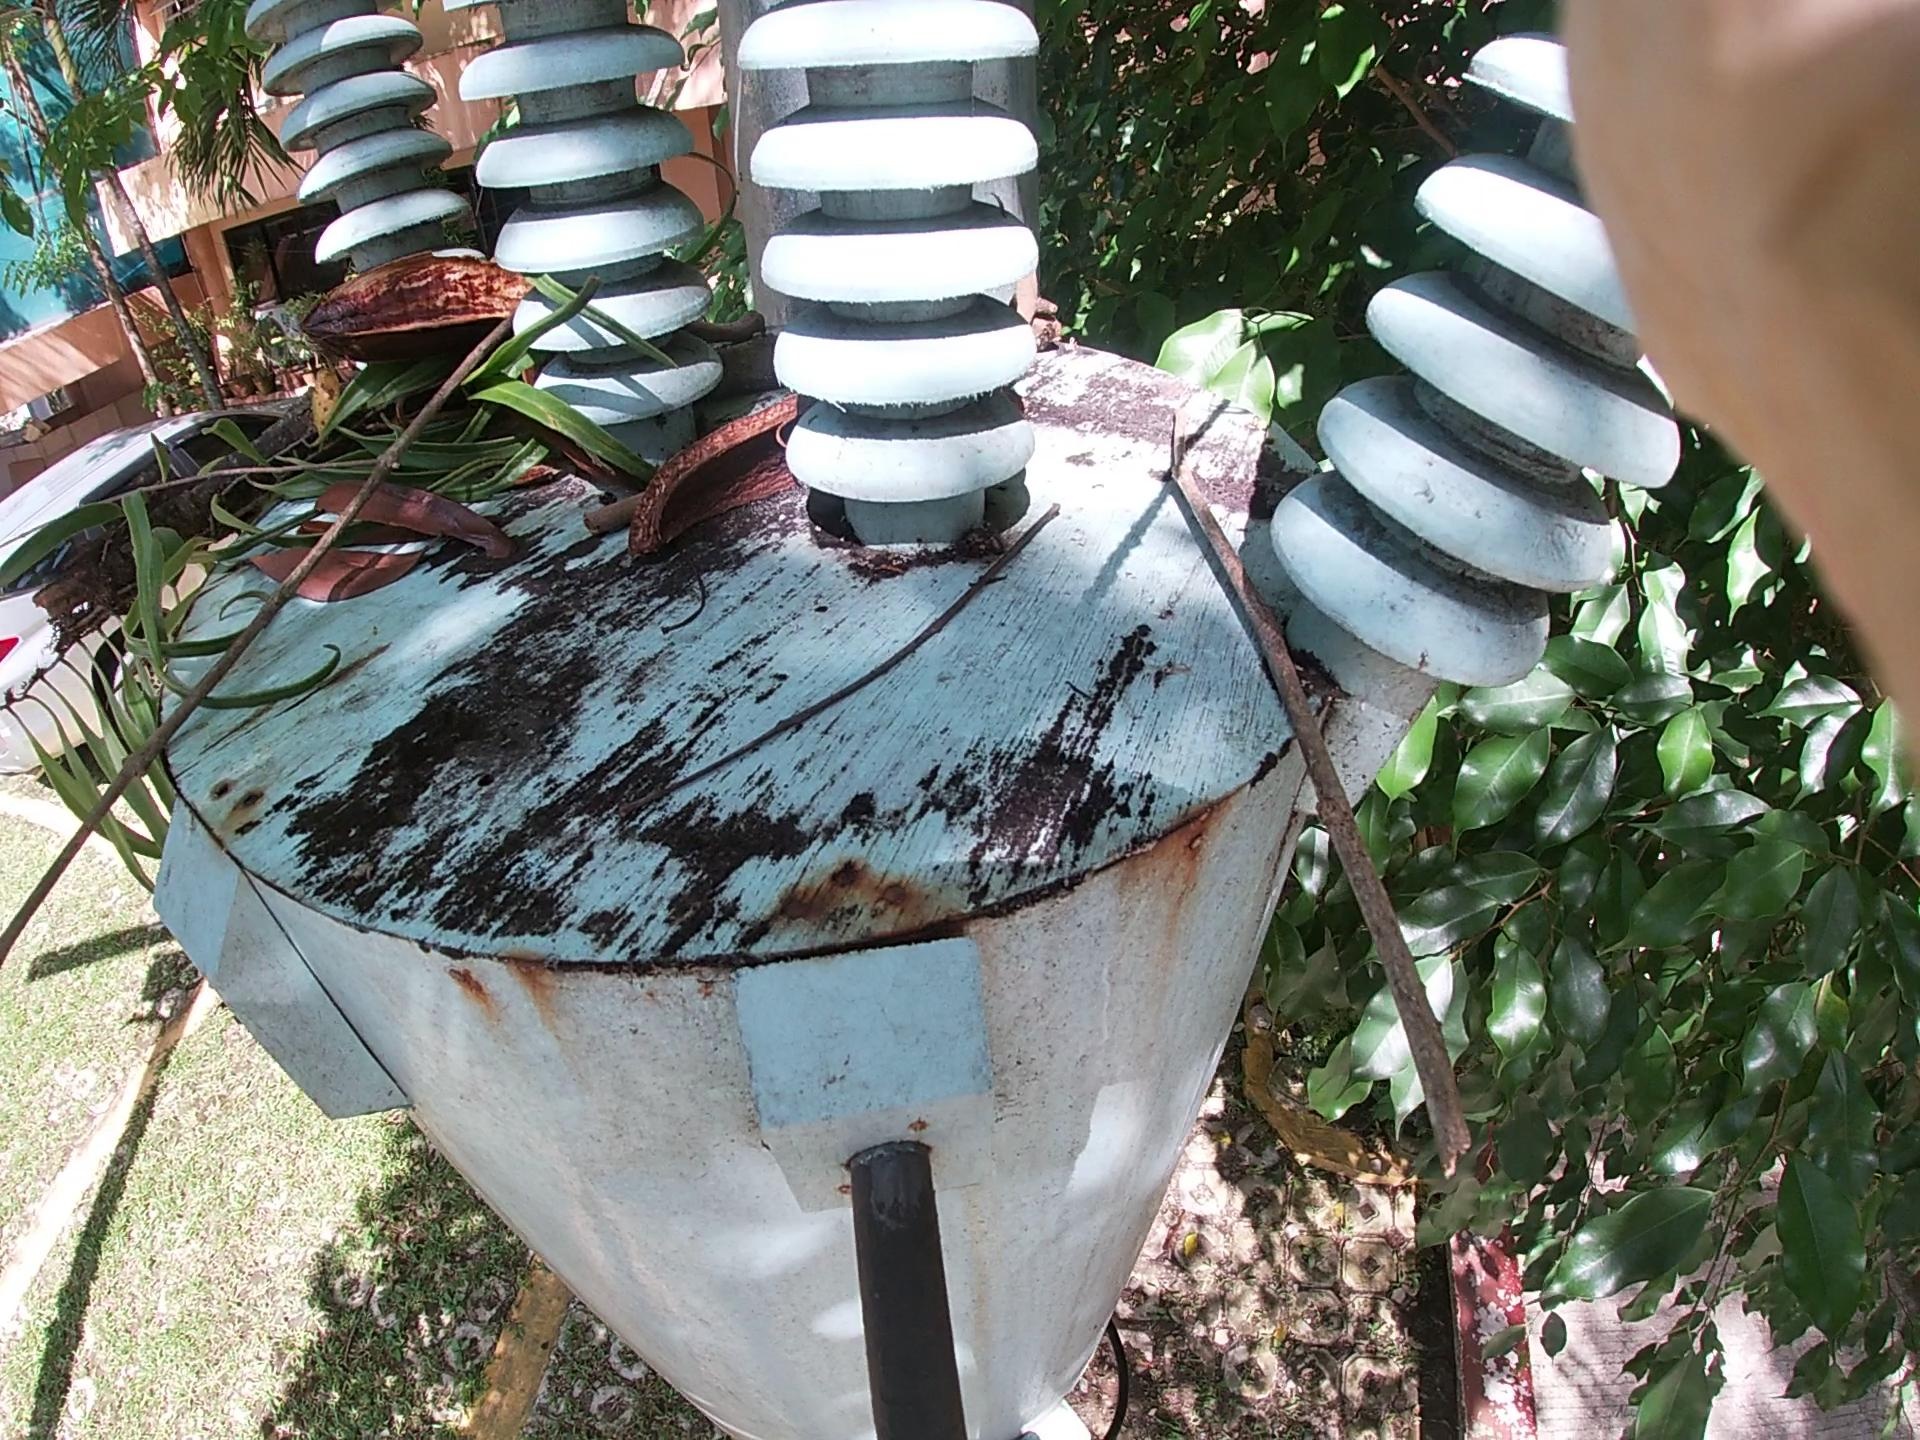branch with leaves: (41, 222, 797, 729)
leaf: (254, 424, 432, 653)
mahogany fruit: (224, 213, 630, 405), (658, 309, 822, 569)
tree branch: (30, 250, 594, 929), (1161, 457, 1451, 1175), (588, 251, 1197, 532), (655, 510, 1079, 790)
